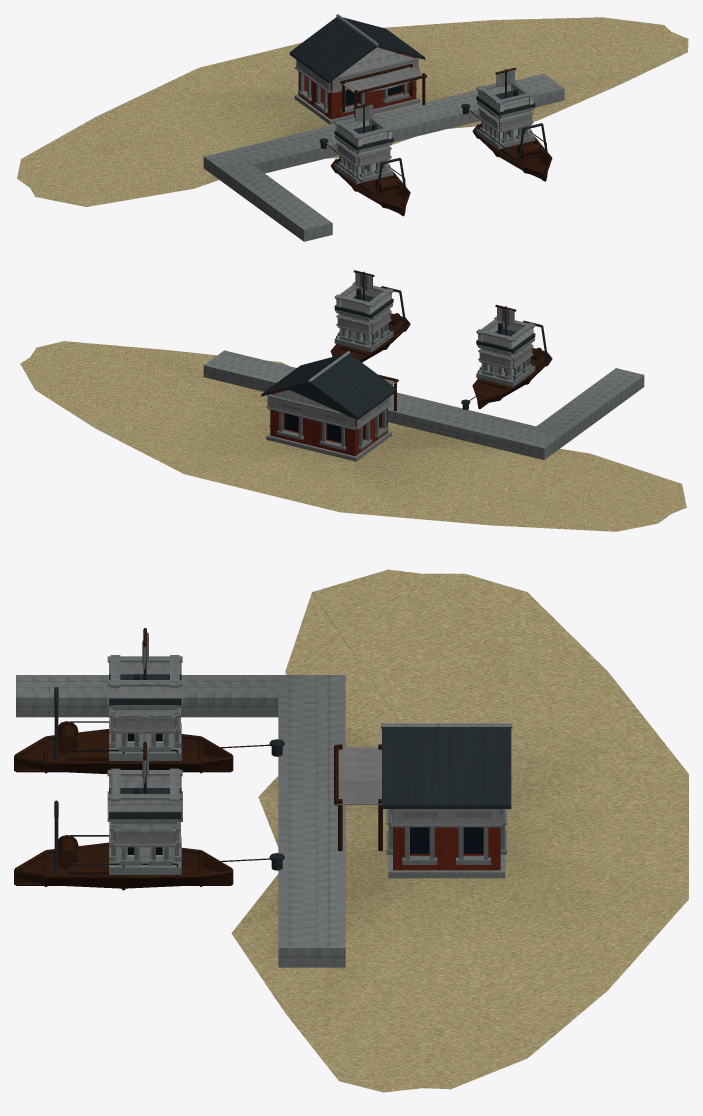
Rendered from fishing_boats-modern-8baf516e.glb.
3 views of the same model, one above another, from view 1: azimuth 30°, elevation 25°; view 2: azimuth 150°, elevation 25°; view 3: azimuth 270°, elevation 25° (orthographic). The views are drawn at different scales.
Visible parts, largest first — view 1: LOD0; view 2: LOD0; view 3: LOD0.
Boxes of the visible parts, bbox=[...] form: LOD0: bbox=[17, 14, 688, 241]; LOD0: bbox=[20, 270, 686, 531]; LOD0: bbox=[14, 569, 688, 1092].
Size of what is drawn, in the model's own units: 4.76 by 0.57 by 2.51.
Materials: 3 (3 with a texture image).
